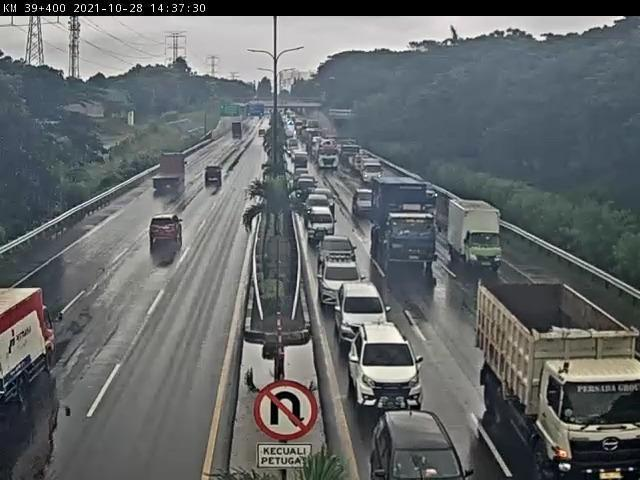car: (366, 407, 466, 480), (347, 325, 421, 410), (336, 280, 387, 344), (319, 258, 365, 305), (318, 236, 356, 271), (150, 216, 186, 250), (305, 204, 334, 240), (201, 167, 226, 184)
truck: (474, 278, 640, 480), (1, 286, 65, 410), (370, 177, 438, 270), (447, 198, 511, 277), (150, 152, 189, 198)
